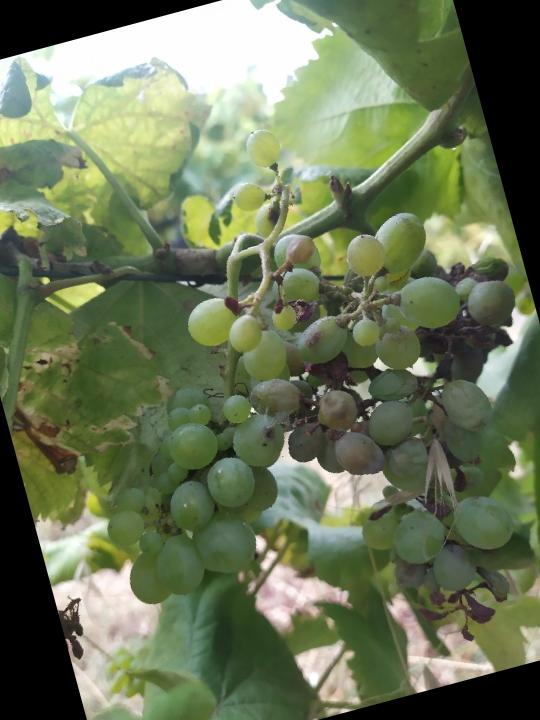grape: (168, 179, 540, 695)
